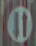Two way: (6, 4, 35, 43)
